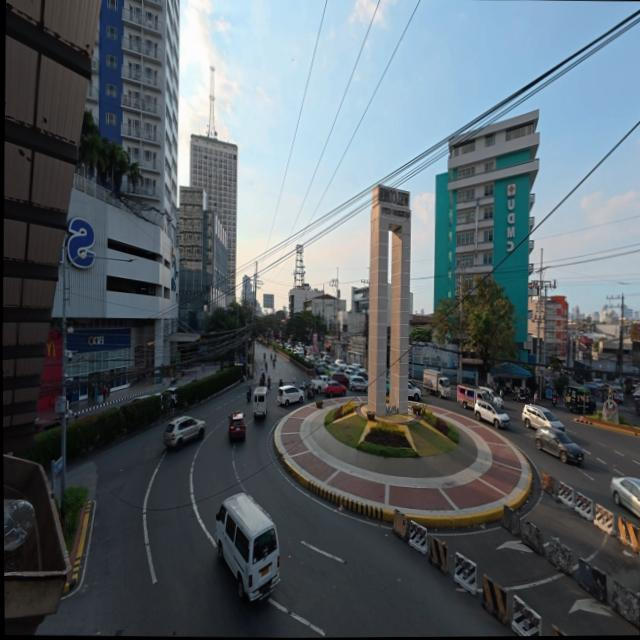car: (533, 427, 584, 466), (164, 414, 208, 450), (473, 395, 510, 430), (611, 476, 640, 520), (519, 404, 555, 431), (225, 413, 246, 444), (274, 384, 303, 406), (322, 378, 344, 398), (346, 374, 367, 392)
vans: (212, 492, 280, 605)
